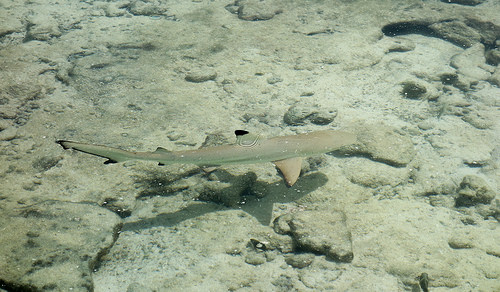shark: (42, 104, 367, 196)
